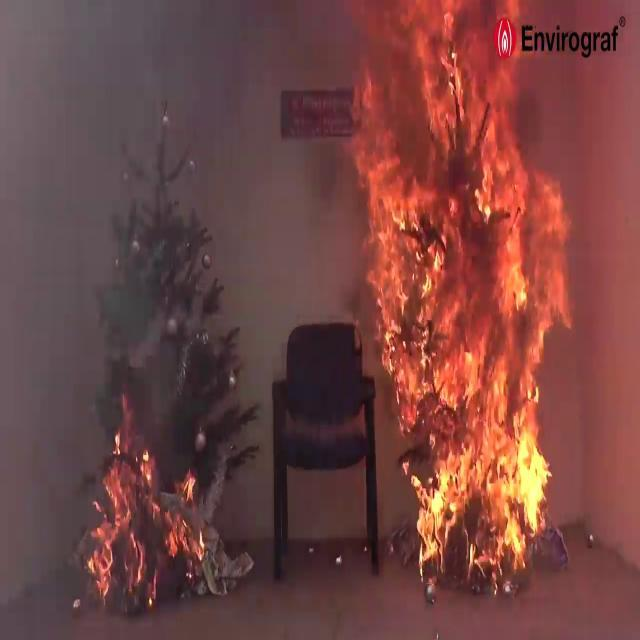Fire: (344, 9, 586, 564), (82, 436, 225, 632)
Smoke: (0, 0, 260, 425)
